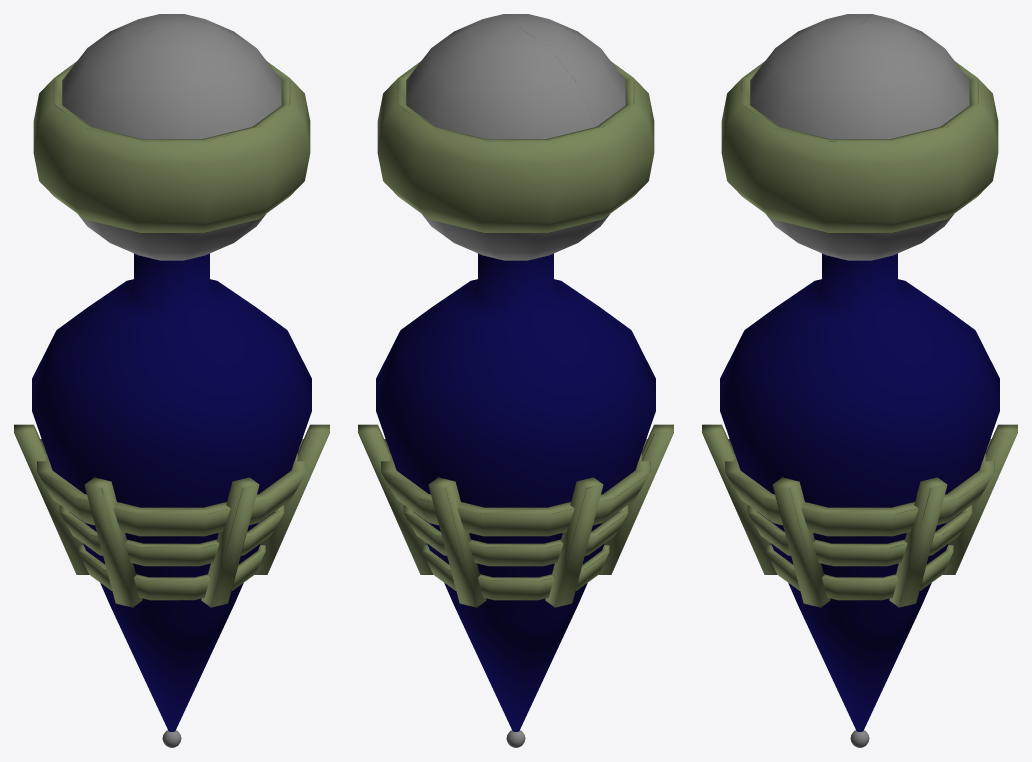
The model's file is tessslina.fbx.
3 renders of one model, left to right at view 1: azimuth 30°, elevation 25°; view 2: azimuth 150°, elevation 25°; view 3: azimuth 270°, elevation 25°, orthographic.
Visible parts, largest first — view 1: teslina; view 2: teslina; view 3: teslina.
Boxes of the visible parts, left/top/right/bottom form: teslina: left=14, top=14, right=329, bottom=747; teslina: left=358, top=14, right=673, bottom=747; teslina: left=702, top=14, right=1017, bottom=747.
Bounding box in the file's own units: 441 × 1240 × 491.
